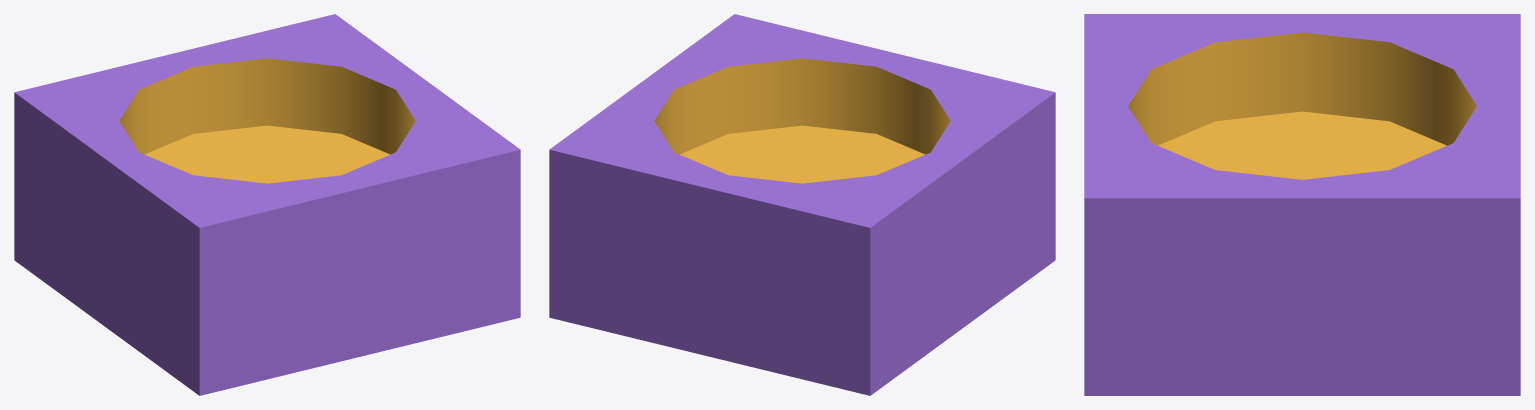
The model's file is fan-two-col.glb.
3 renders of one model, left to right at view 1: azimuth 30°, elevation 25°; view 2: azimuth 150°, elevation 25°; view 3: azimuth 270°, elevation 25°, orthographic. The views are drawn at different scales.
Parts seen in each view (by area): view 1: fan-two-col; view 2: fan-two-col; view 3: fan-two-col.
Part boxes in pixels (box(x1,y1,x2,y2)): fan-two-col: box(14, 14, 520, 395); fan-two-col: box(549, 14, 1055, 395); fan-two-col: box(1084, 14, 1520, 395).
Size of the model in its own units: 1 by 0.5 by 1.
1 material, 1 textured.
